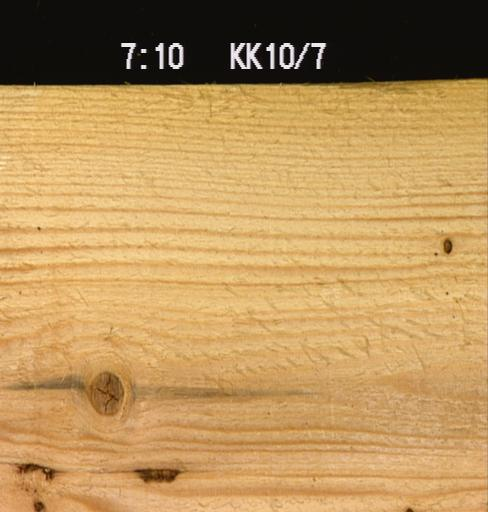dry_knot: (441, 235, 452, 256)
sound_knot: (88, 369, 122, 414)
